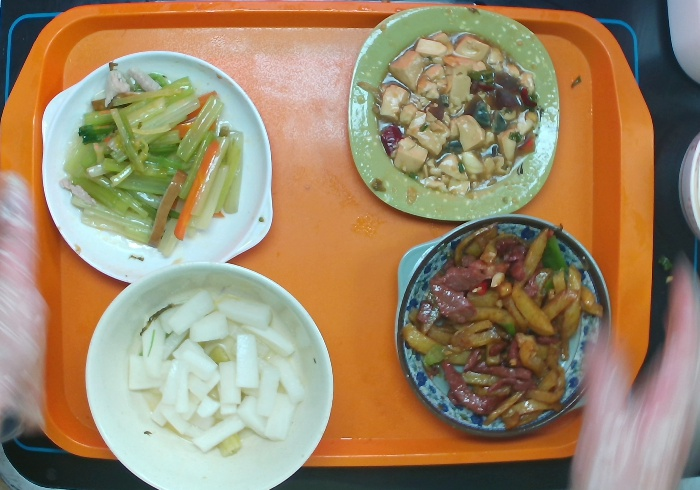NLDX-Bai_Se_Shuang_Er_Die: (38, 48, 275, 284)
NLDX-Bai_Se_Yuan_Wan: (82, 258, 336, 490)
NLDX-Lv_Hua_Fang_Die: (344, 4, 562, 222)
NLDX-Qing_Hua_Shuang_Er_Die: (393, 211, 613, 442)
